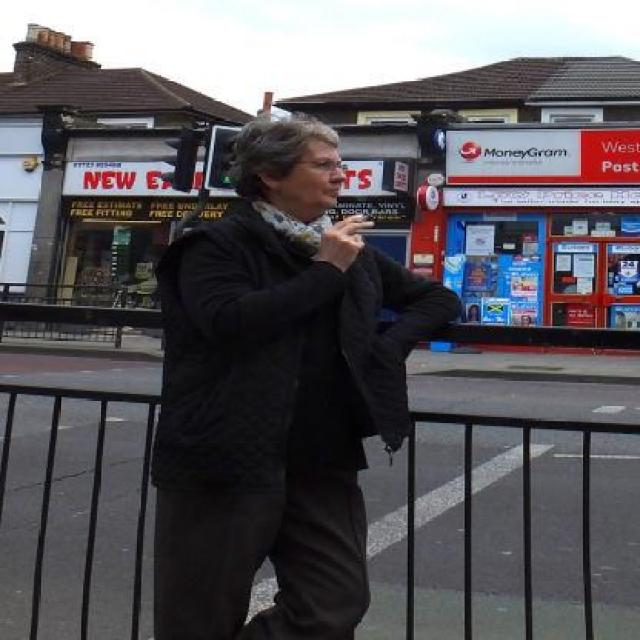smoke: (351, 211, 377, 229)
